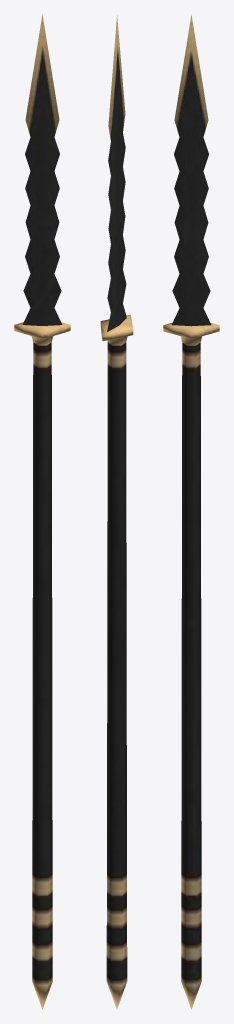
Rendered from weapons_fa_spd.glb.
The picture shows the model from 3 angles, left to right: view 1: azimuth 90°, elevation 25°; view 2: azimuth 150°, elevation 25°; view 3: azimuth 270°, elevation 25°; orthographic projection.
Parts seen in each view (by area): view 1: fa_spd; view 2: fa_spd; view 3: fa_spd.
Part boxes in pixels (x1=…): fa_spd: x1=14, y1=14, x2=70, y2=1009; fa_spd: x1=100, y1=15, x2=133, y2=1009; fa_spd: x1=163, y1=14, x2=219, y2=1009.
Size of the model in its own units: 0.0768 by 2.25 by 0.116.
Materials: 1 (1 with a texture image).
